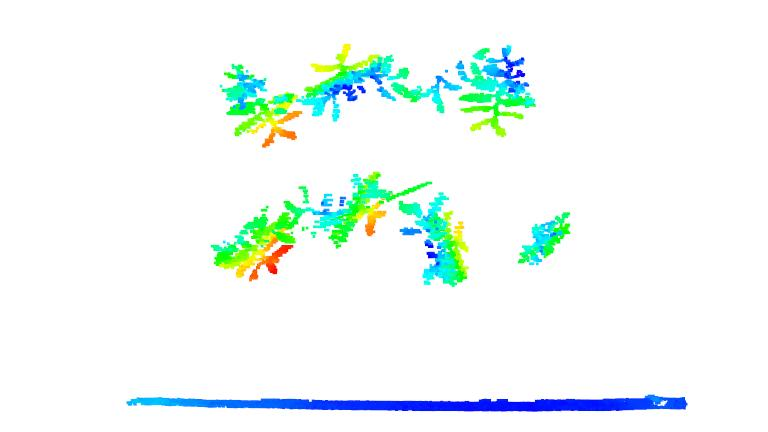chickpea: (300, 162, 391, 256), (309, 37, 406, 116), (219, 61, 302, 150), (466, 42, 536, 146), (209, 202, 297, 284), (402, 190, 475, 287), (407, 39, 476, 115), (511, 210, 585, 272)
